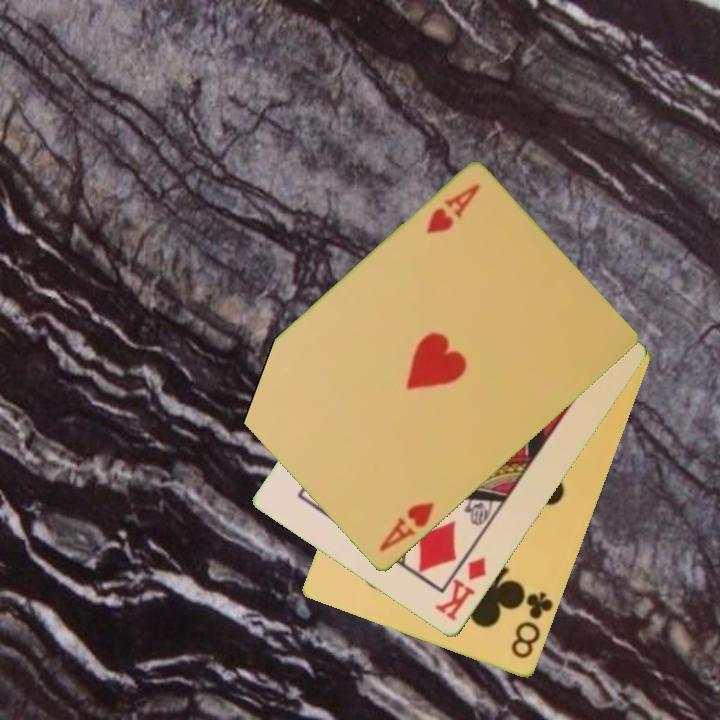8c: (507, 589, 557, 662)
Ah: (422, 180, 483, 238), (375, 499, 438, 555)
Kd: (432, 554, 490, 625)
